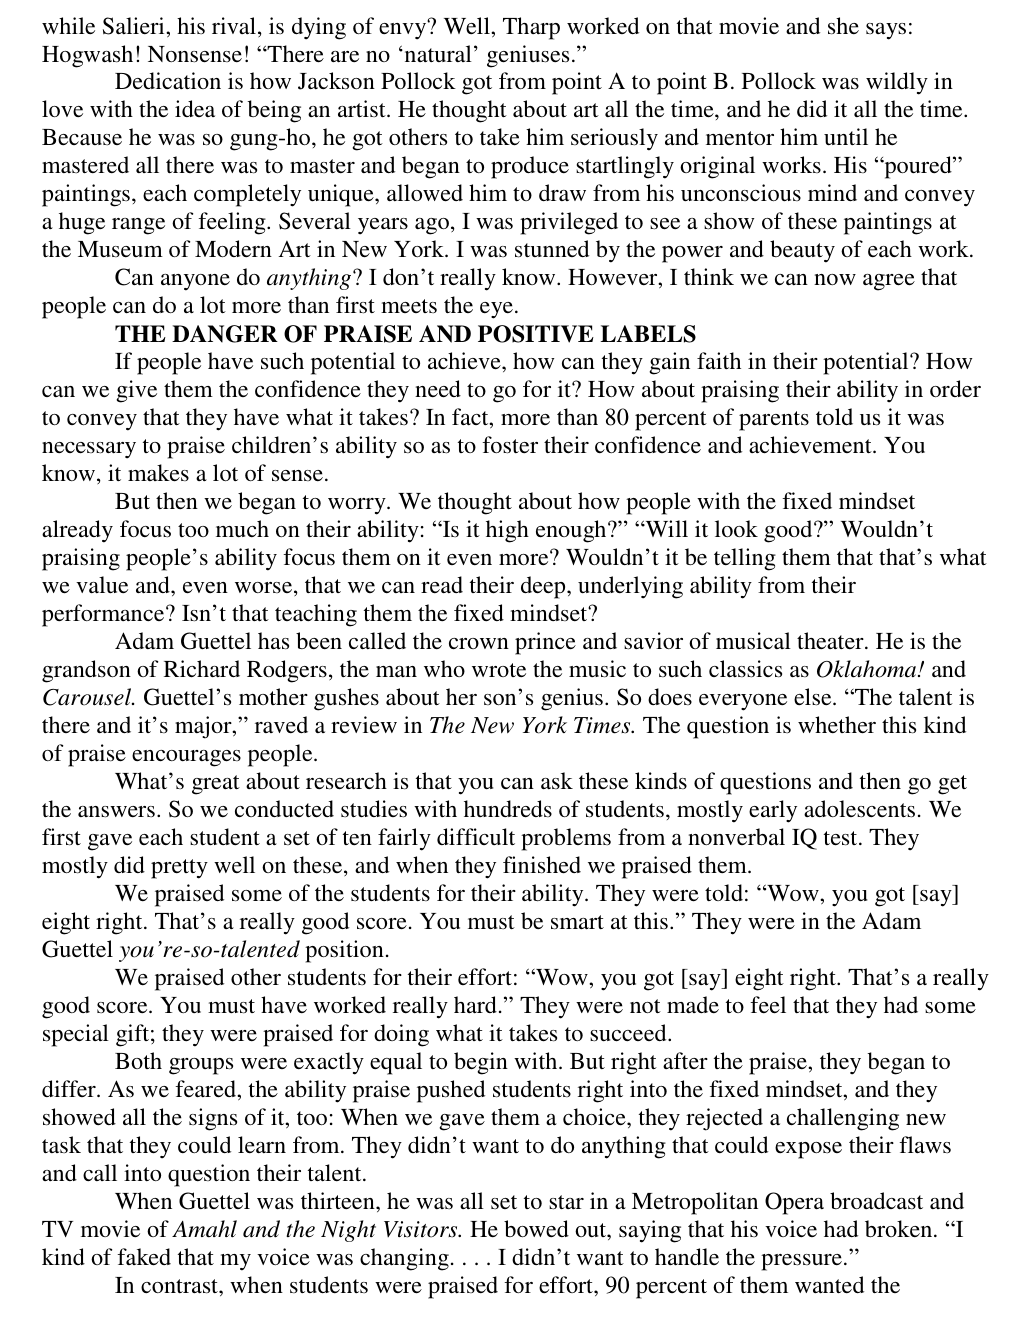latin: (41, 67, 976, 324), (35, 1052, 979, 1300), (35, 880, 988, 1052), (41, 345, 984, 488), (37, 487, 988, 623), (38, 631, 982, 764), (38, 766, 972, 880), (38, 12, 914, 65), (113, 323, 697, 345)
